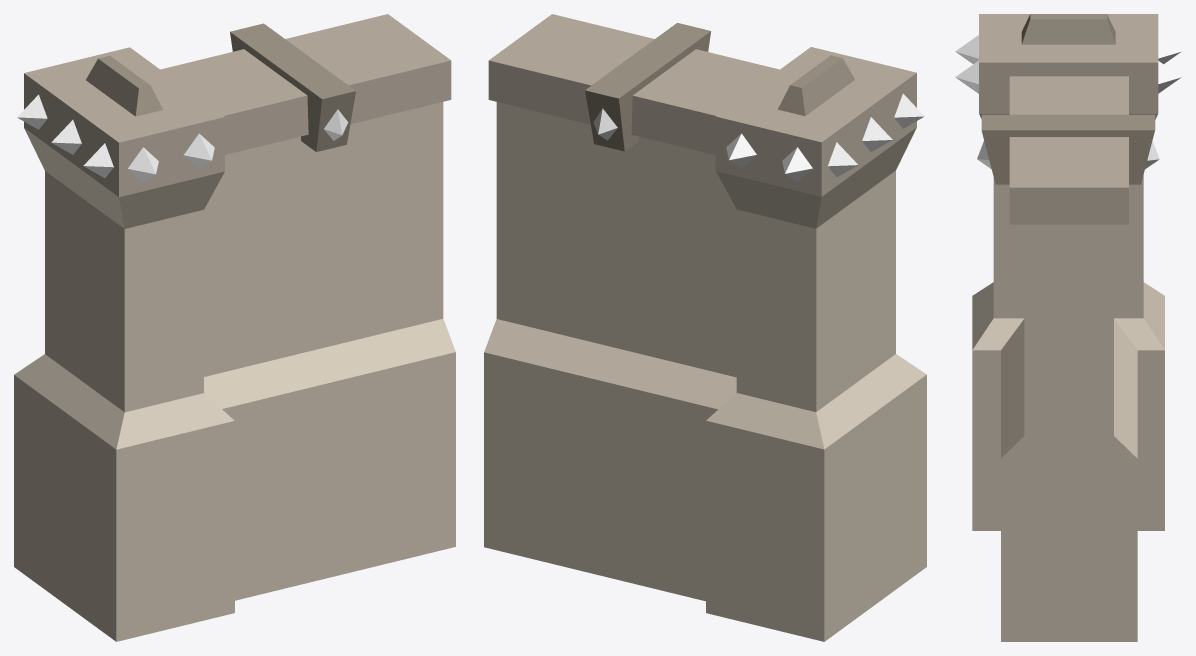
Rendered from Wall_End.DAE.
3 views of the same model, side by side, from view 1: azimuth 30°, elevation 25°; view 2: azimuth 150°, elevation 25°; view 3: azimuth 270°, elevation 25° (orthographic). The views are drawn at different scales.
Parts seen in each view (by area): view 1: Wall_End; view 2: Wall_End; view 3: Wall_End.
Part boxes in pixels (box(x1,y1,x2,y2)): Wall_End: box(14, 14, 455, 641); Wall_End: box(484, 14, 926, 641); Wall_End: box(955, 14, 1181, 641).
Size of the model in its own units: 0.9999 by 1.34 by 0.5638.
